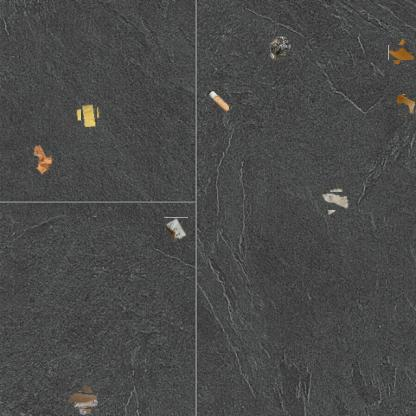dirty: (32, 144, 54, 174), (164, 217, 188, 242), (72, 388, 96, 412), (268, 35, 290, 61), (206, 90, 230, 112), (324, 190, 346, 212), (79, 103, 100, 125)
liquid: (395, 95, 416, 116), (391, 42, 412, 63)
